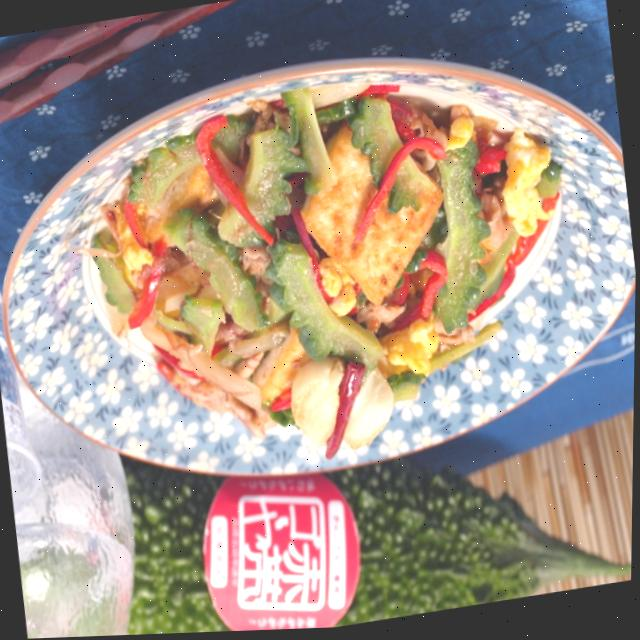熟制海鲜: (0, 0, 640, 535)
